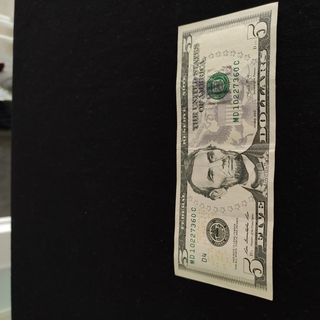5USDFront: (173, 2, 279, 301)
